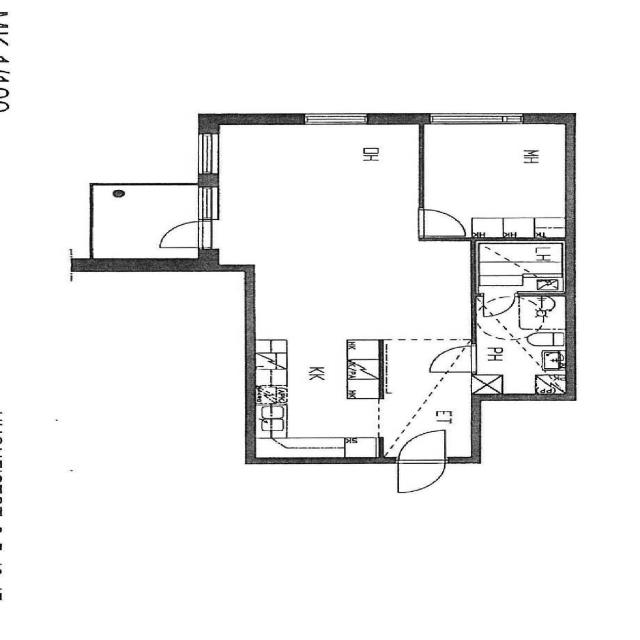door: (398, 457, 444, 494), (157, 221, 219, 248), (398, 427, 444, 463), (419, 209, 464, 236), (430, 346, 475, 372), (483, 291, 514, 316)
